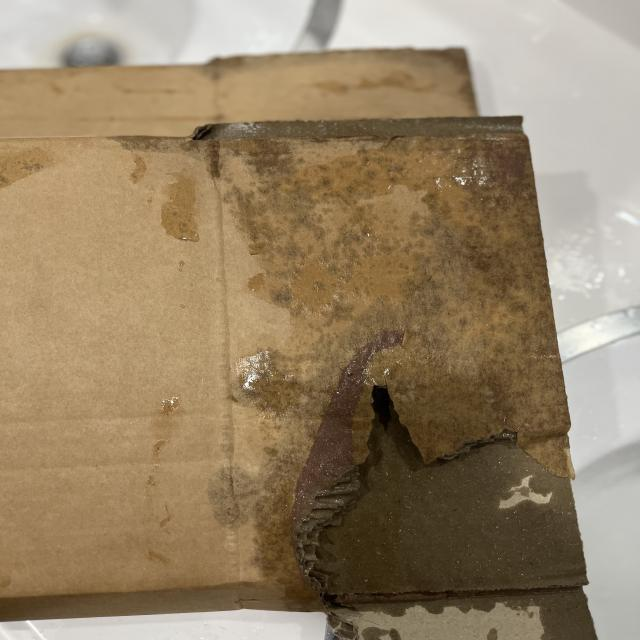wet: (228, 135, 576, 594)
